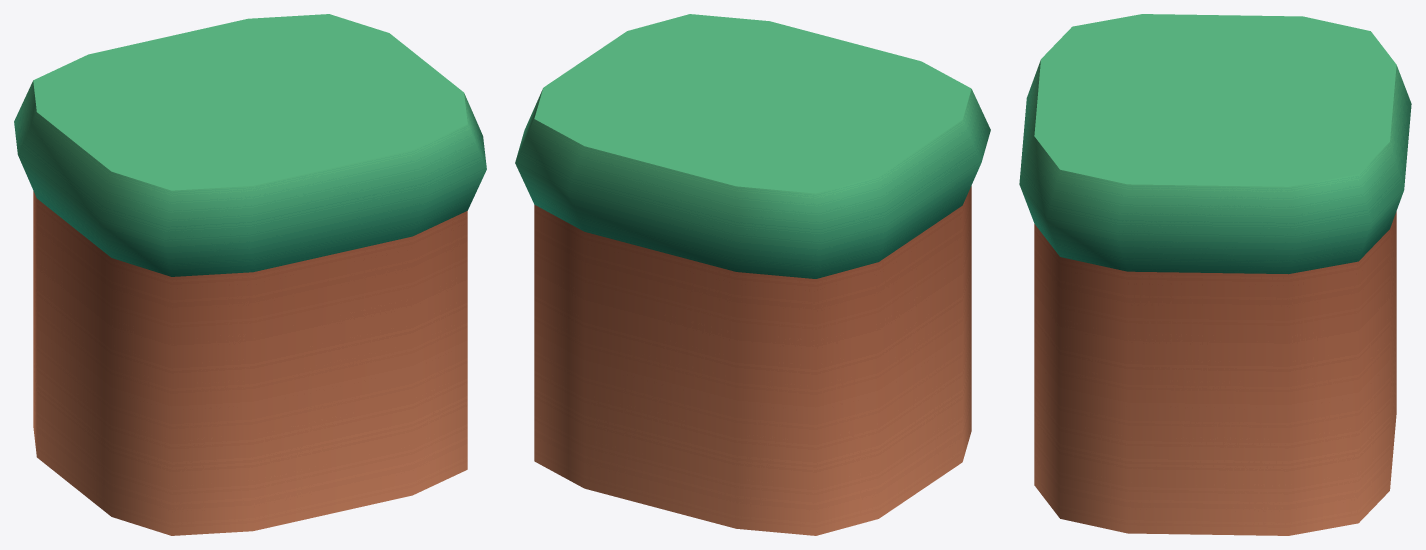
The model's file is block-grass.013_lev2.glb.
3 renders of one model, left to right at view 1: azimuth 30°, elevation 25°; view 2: azimuth 150°, elevation 25°; view 3: azimuth 270°, elevation 25°, orthographic.
Parts seen in each view (by area): view 1: block-grass.013_lev2; view 2: block-grass.013_lev2; view 3: block-grass.013_lev2.
Part boxes in pixels (box(x1,y1,x2,y2)): block-grass.013_lev2: box(14, 14, 486, 535); block-grass.013_lev2: box(515, 14, 990, 535); block-grass.013_lev2: box(1019, 14, 1411, 535).
Size of the model in its own units: 4.27 by 3.72 by 3.79.
1 material, 1 textured.
